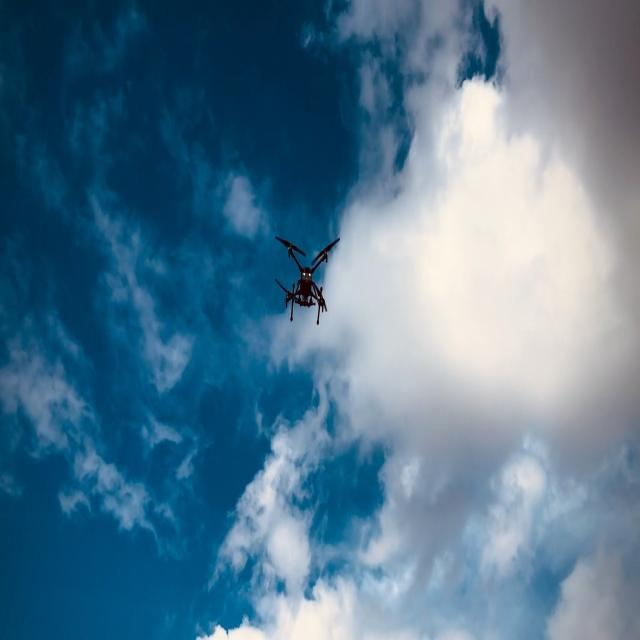drone: (274, 234, 340, 326)
